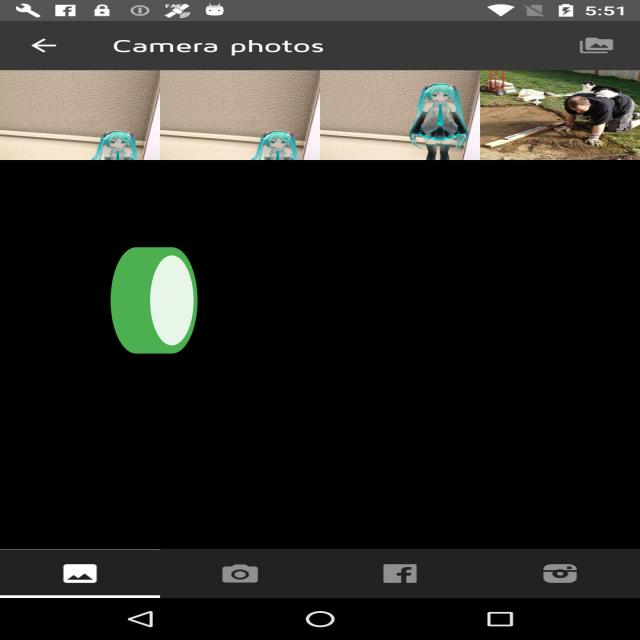social proof: (106, 206, 202, 403)
